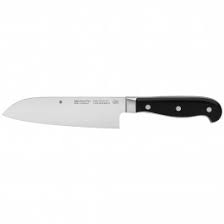knife: (2, 93, 224, 130)
